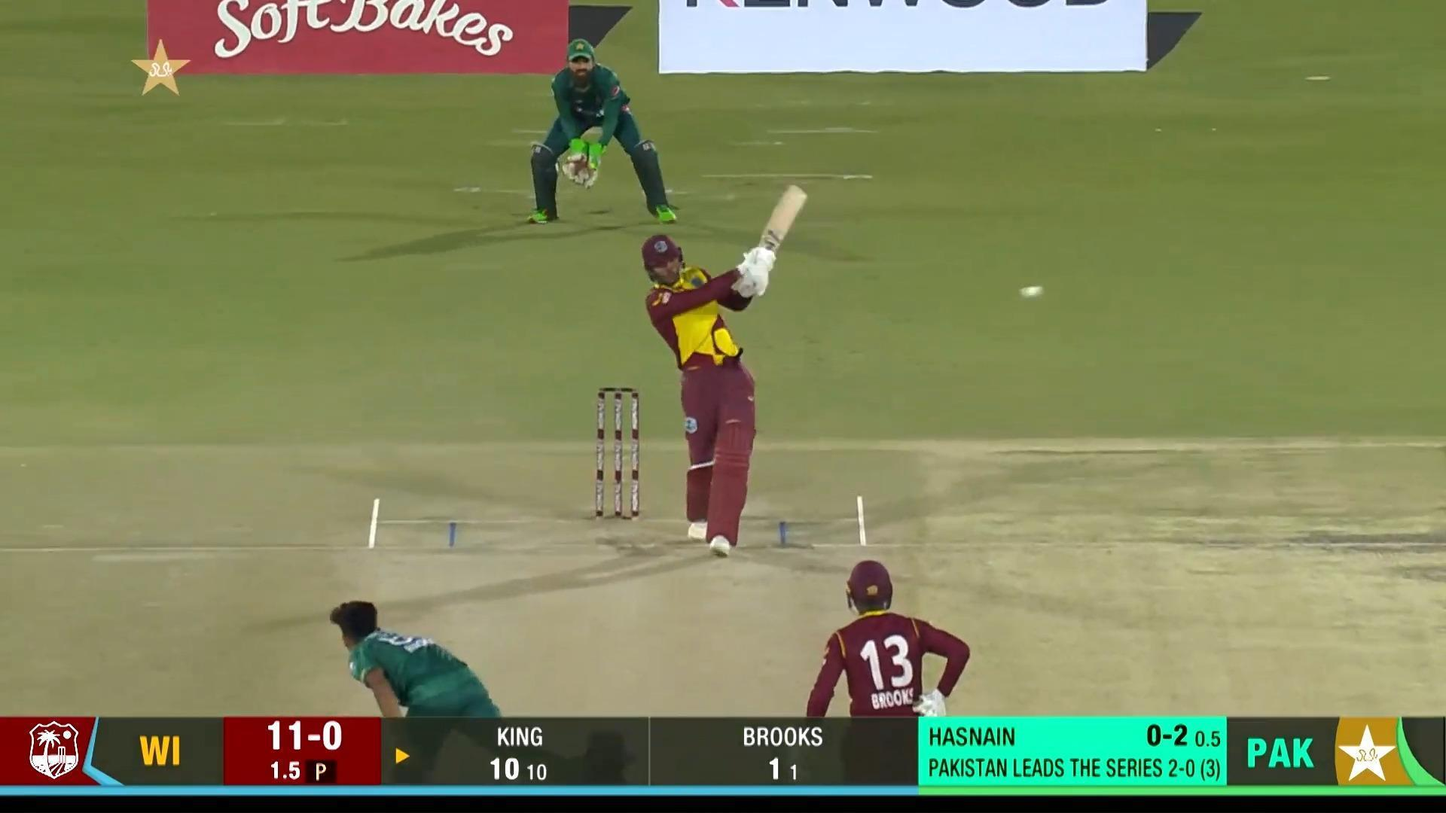BM 1: (643, 181, 812, 557)
BO: (327, 597, 593, 813)
